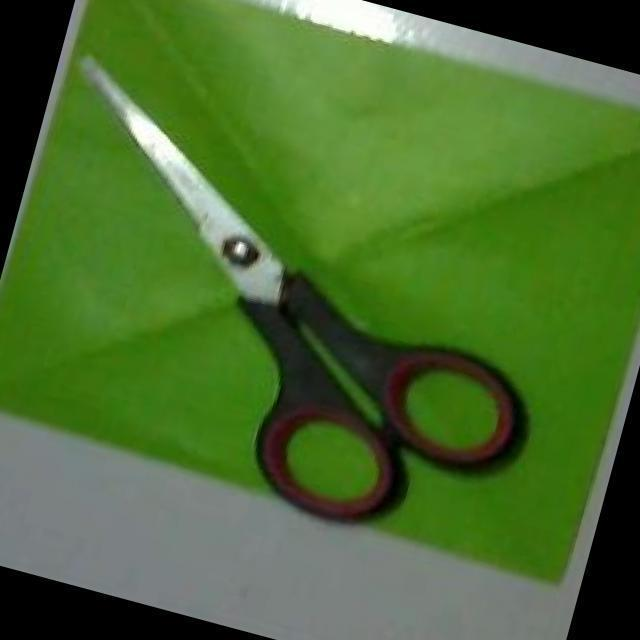scissors: (0, 33, 611, 576)
